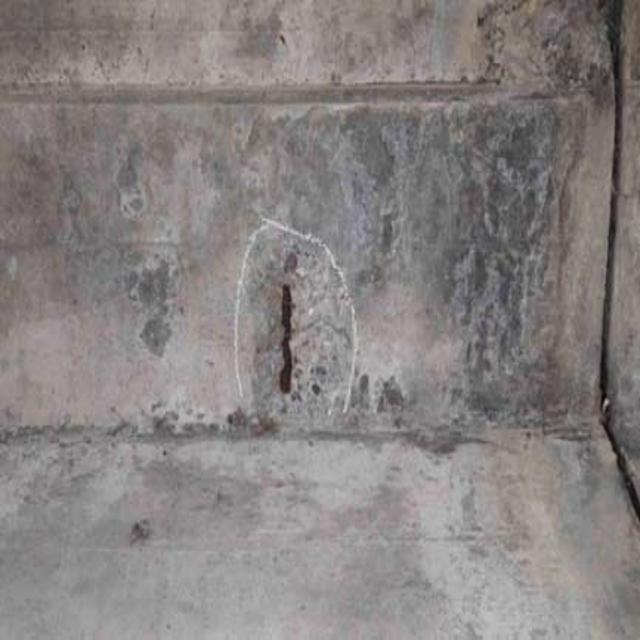spalling: (244, 244, 343, 427)
